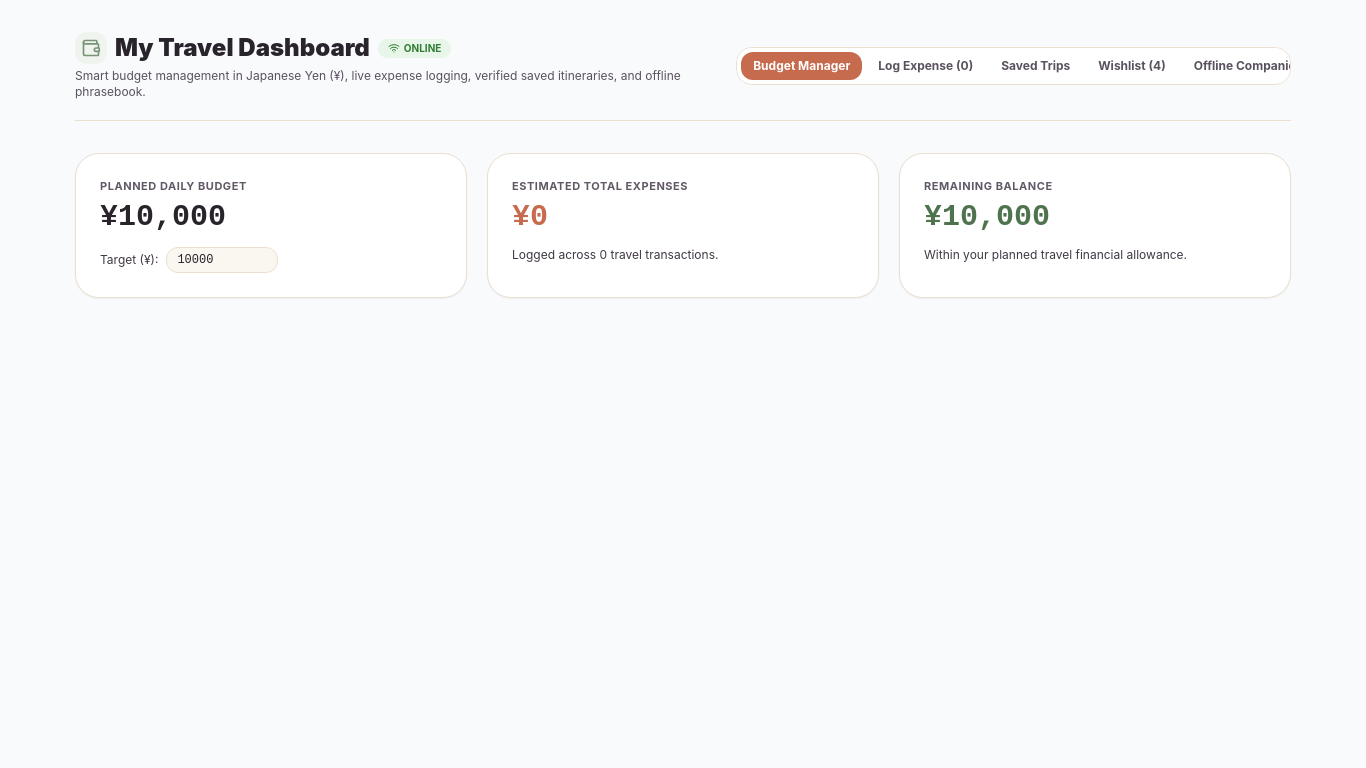
Test: FujiNova 5.0 Workspaces › renders MyTravelView with JPY budget manager and phrasebook
The width and height of the screenshot is (1366, 768).
Check: the heading "My Travel Dashboard" is shown, box [115,32,370,64]
Check: the button "Budget Manager" is shown, box [741,52,862,80]
# Switch to offline tab
Click the button "Offline Companion" at (1249, 66), box [1182,52,1315,80]
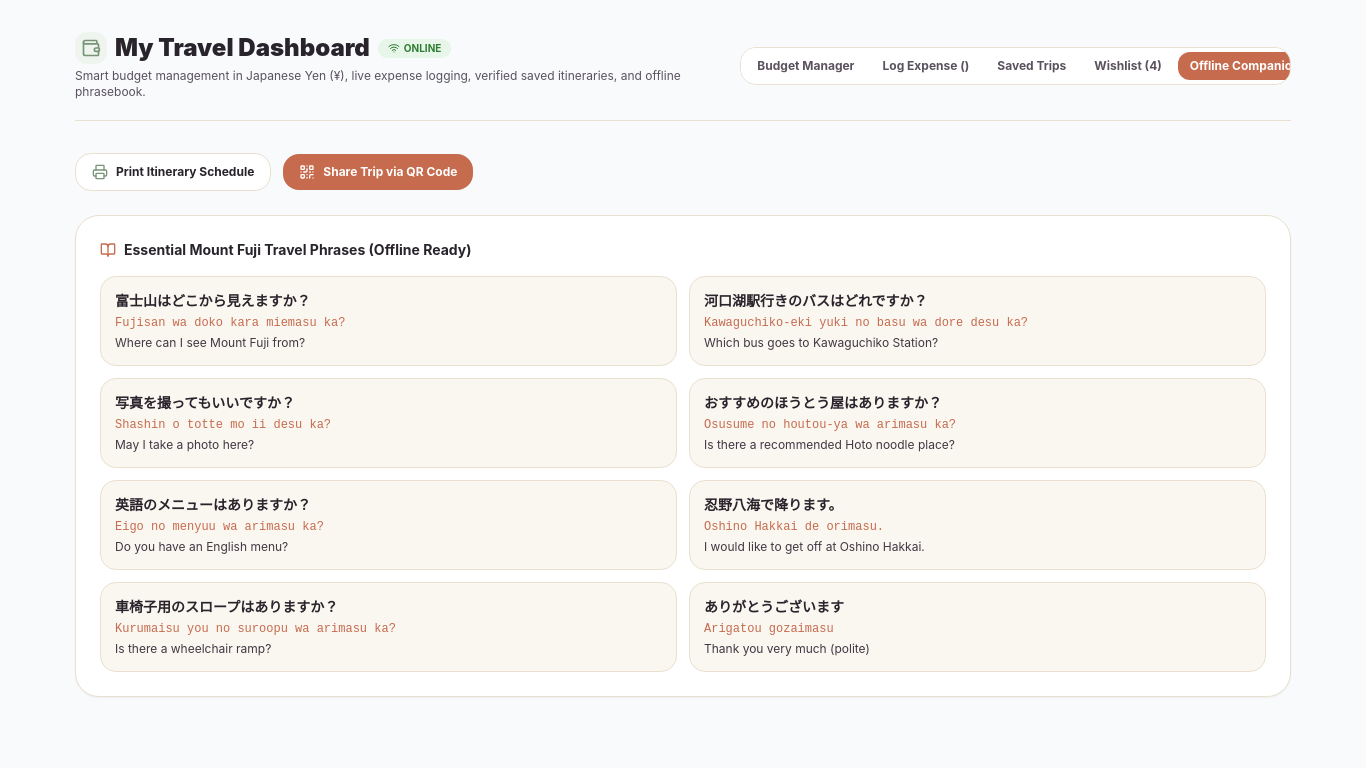
Check: the text "Essential Mount Fuji Travel Phrases (Offline Ready)" is shown, box [124,240,472,260]
